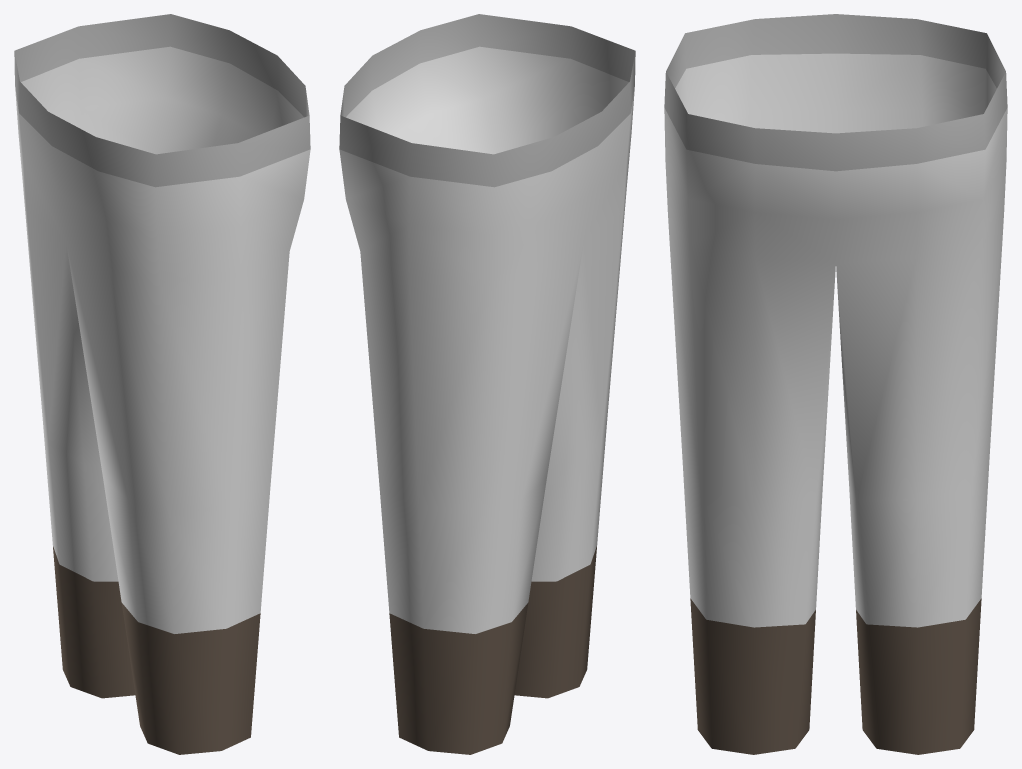
The model's file is capris.fbx.
3 views of the same model, side by side, from view 1: azimuth 30°, elevation 25°; view 2: azimuth 150°, elevation 25°; view 3: azimuth 270°, elevation 25° (orthographic). The views are drawn at different scales.
Visible parts, largest first — view 1: Cube.014; view 2: Cube.014; view 3: Cube.014.
Boxes of the visible parts, x1,y1,x2,y2 form: Cube.014: (14,14,310,754); Cube.014: (339,14,635,754); Cube.014: (664,14,1007,754).
Bounding box in the file's own units: 106 × 271 × 128.
